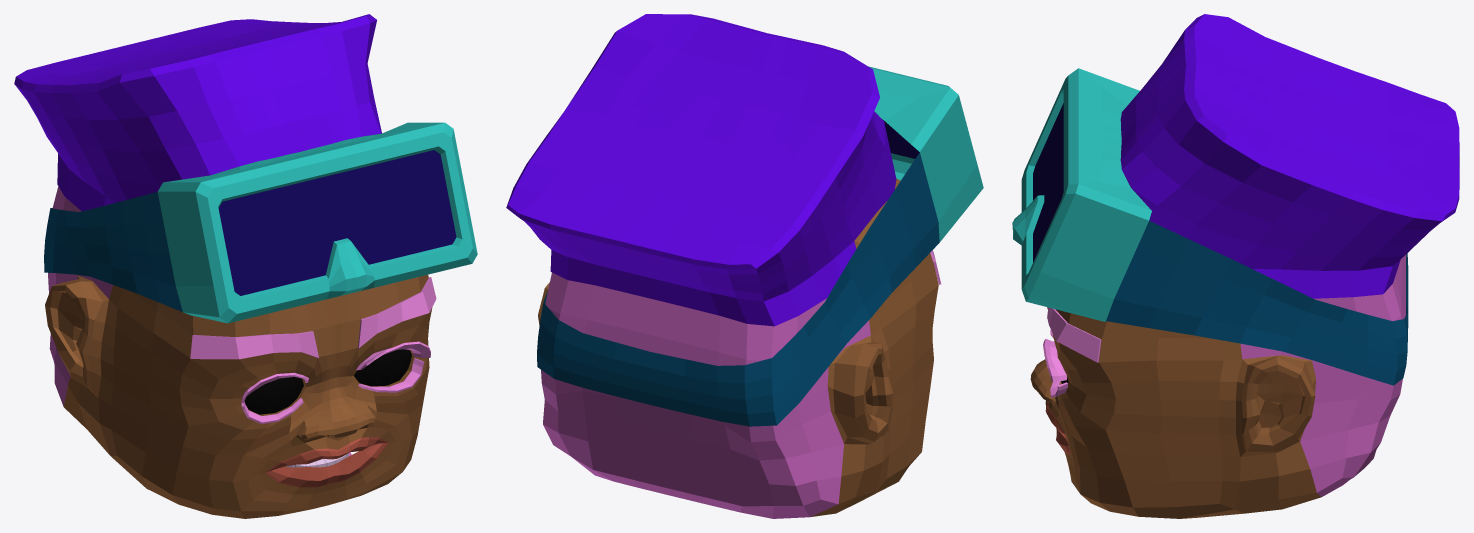
Rendered from DemonCubo.fbx.
3 renders of one model, left to right at view 1: azimuth 30°, elevation 25°; view 2: azimuth 150°, elevation 25°; view 3: azimuth 270°, elevation 25°, orthographic. The views are drawn at different scales.
Parts seen in each view (by area): view 1: CuboFace; view 2: CuboFace; view 3: CuboFace.
Boxes of the visible parts, x1,y1,x2,y2 form: CuboFace: (14, 14, 477, 518); CuboFace: (506, 14, 983, 518); CuboFace: (1012, 14, 1459, 518).
Bounding box in the file's own units: 0.3066 × 0.3955 × 0.3868.
